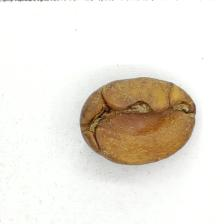NG: (91, 89, 195, 150)
